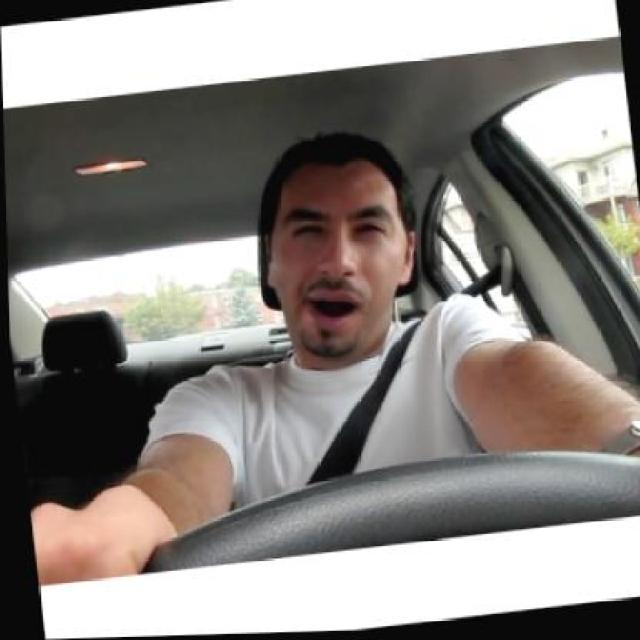inattentif: (245, 118, 429, 364)
